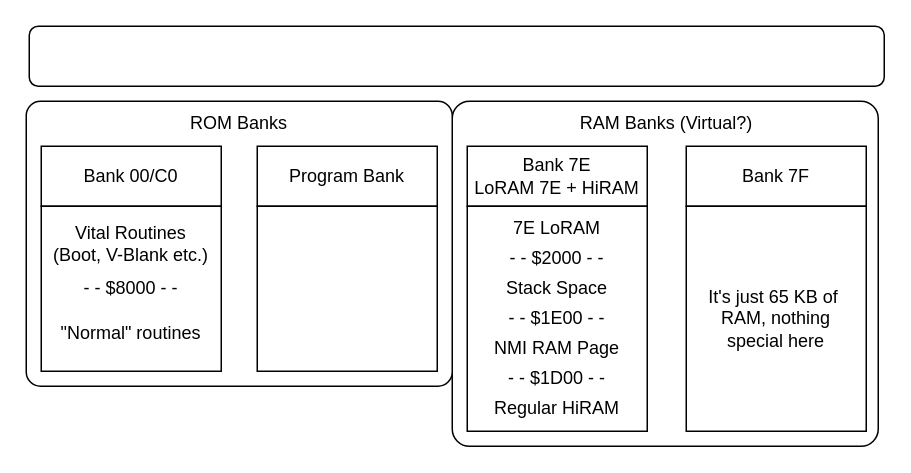
This 911x473 diagram has some shape labels left out. The centre of each missing label's shape, as x and y in pixels:
"It's just 65 KB of ROM, nothing special here" belongs at point (346, 288).
"PROJECT MEMORY LAYOUT" belongs at point (456, 55).
